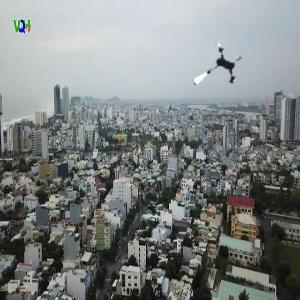drone: (193, 44, 252, 103)
